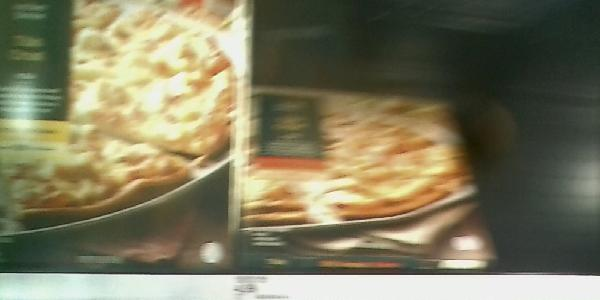pizza1: (1, 1, 245, 269), (244, 77, 499, 269)
